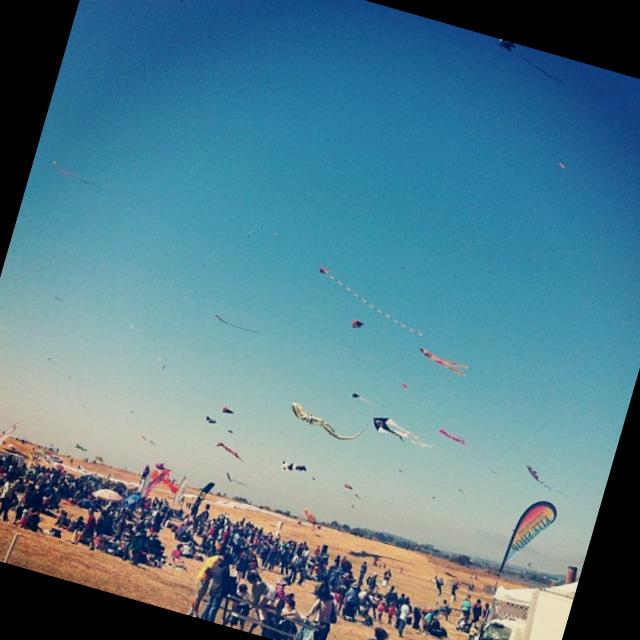Vehicle: (456, 570, 574, 640)
